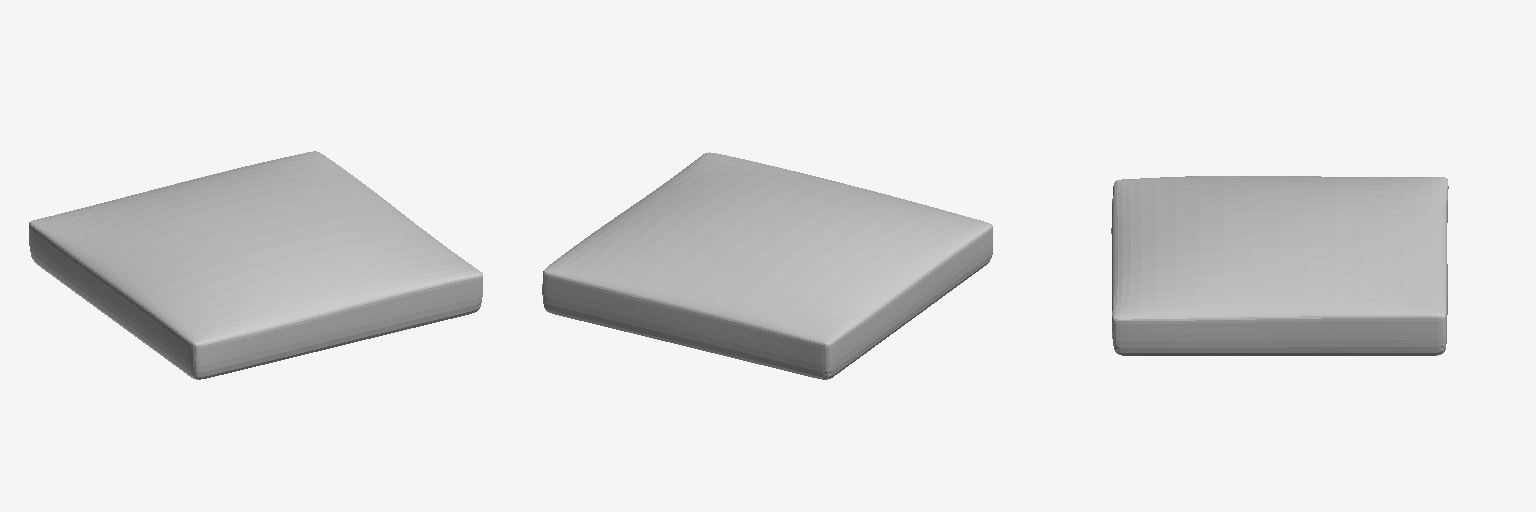
The picture shows the model from 3 angles: view 1: azimuth 30°, elevation 25°; view 2: azimuth 150°, elevation 25°; view 3: azimuth 270°, elevation 25°; orthographic projection.
Parts seen in each view (by area): view 1: 10484_Baseball_Base_L3; view 2: 10484_Baseball_Base_L3; view 3: 10484_Baseball_Base_L3.
Boxes of the visible parts, x1,y1,x2,y2 form: 10484_Baseball_Base_L3: [29, 151, 482, 379]; 10484_Baseball_Base_L3: [542, 152, 992, 379]; 10484_Baseball_Base_L3: [1111, 176, 1448, 355].
Bounding box in the file's own units: 1.91 × 0.4153 × 1.91.